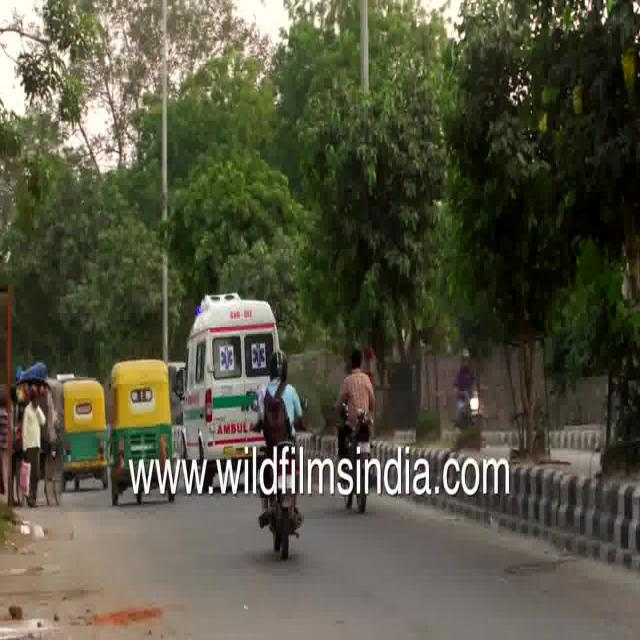ambulance: (174, 262, 286, 488)
